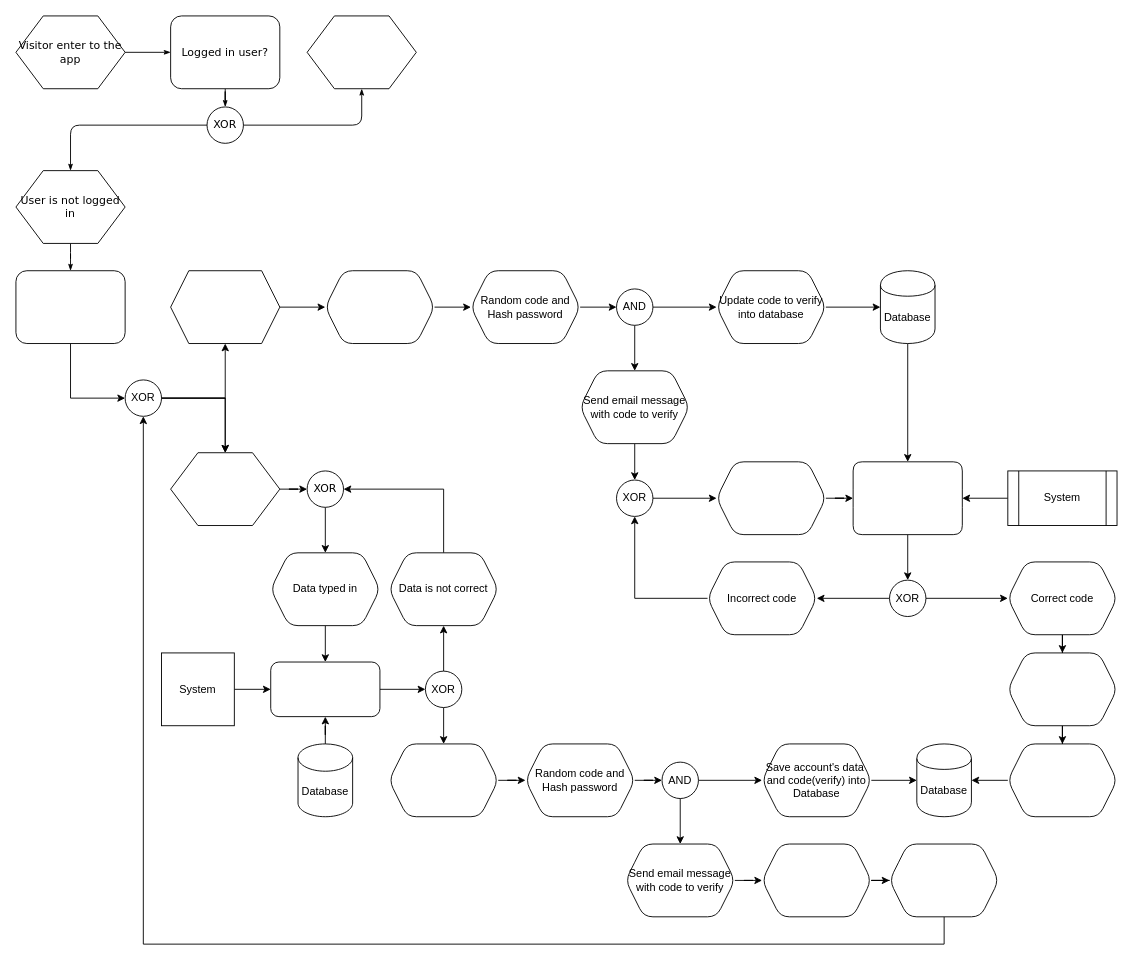
The diagram is 1133 pixels wide and 967 high, and some of its shapes have lost their labels. The box of each missing label's shape, as (x1, y1, x2, y2) in pixels:
Account activated: (889, 843, 999, 917)
Data is correct: (388, 743, 498, 817)
Proof completion, correctness & account already existed: (270, 661, 380, 717)
Registered user?: (15, 270, 125, 344)
System checking: (852, 461, 962, 535)
Update new password into database: (1007, 743, 1117, 817)
User activate the account with code (verify): (761, 843, 871, 917)
User enter code (verify): (716, 461, 826, 535)
User enter new password: (1007, 652, 1117, 726)
User forgot password: (324, 270, 435, 344)
User is logged in: (306, 15, 416, 89)
User is not Register: (170, 452, 280, 526)
User is resgistered: (170, 270, 280, 344)
